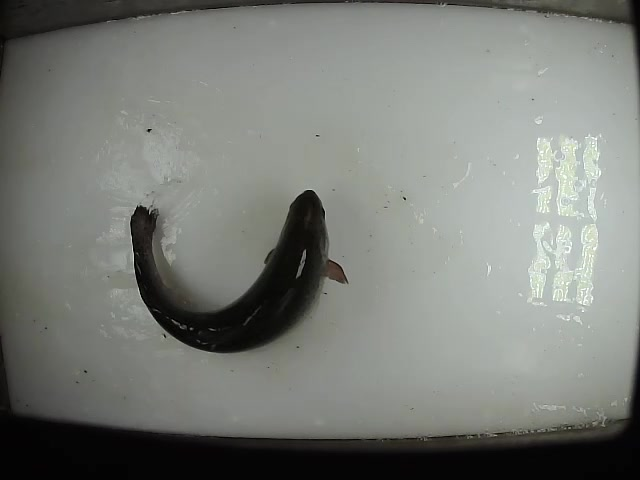fish: (127, 187, 350, 355)
